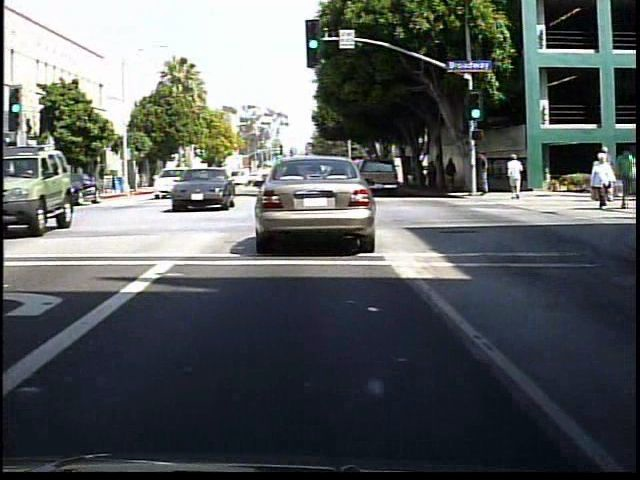person: (587, 151, 618, 209), (595, 143, 619, 206), (502, 150, 525, 202), (474, 148, 495, 203), (618, 146, 635, 211), (447, 156, 463, 192), (431, 158, 444, 192)
